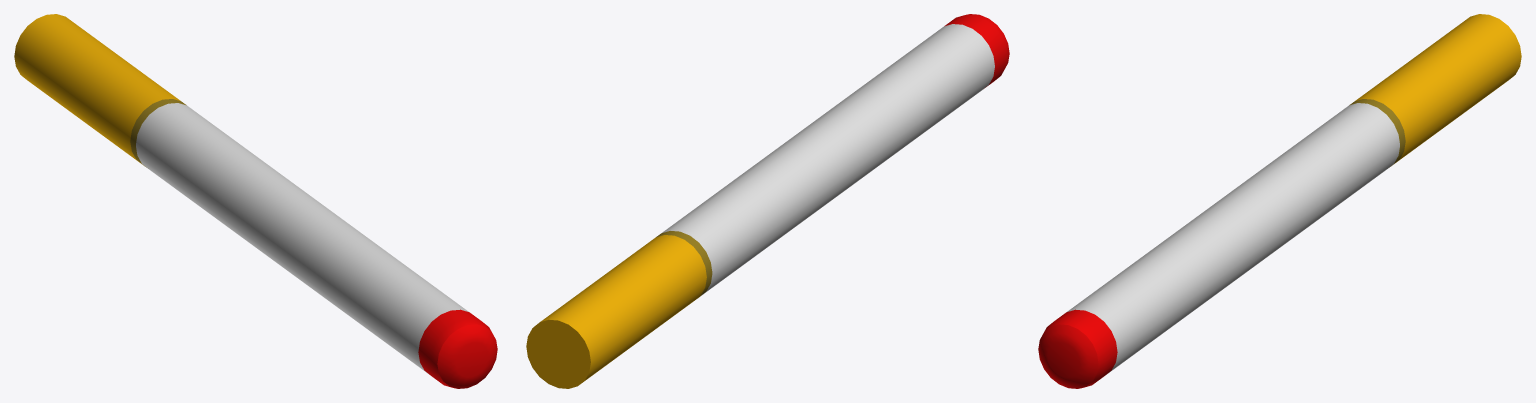
Rendered from SM_Cigarette.fbx.
3 renders of one model, left to right at view 1: azimuth 30°, elevation 25°; view 2: azimuth 150°, elevation 25°; view 3: azimuth 330°, elevation 25°, orthographic.
Visible parts, largest first — view 1: Cigarette; view 2: Cigarette; view 3: Cigarette.
Boxes of the visible parts, <box> form: Cigarette: <box>14,14,497,388</box>; Cigarette: <box>526,14,1009,388</box>; Cigarette: <box>1038,14,1521,388</box>.
Size of the model in its own units: 0.0116 by 0.0116 by 0.1326.
